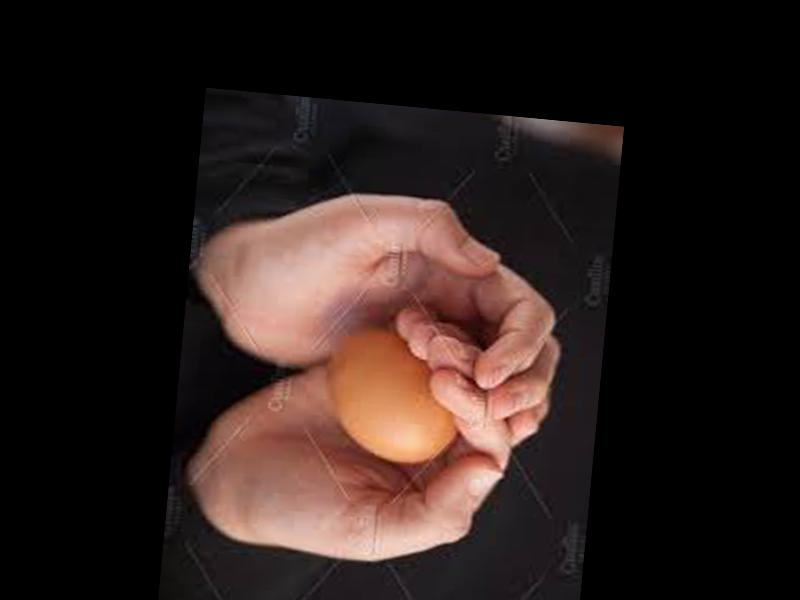Eggs: (319, 317, 462, 468)
